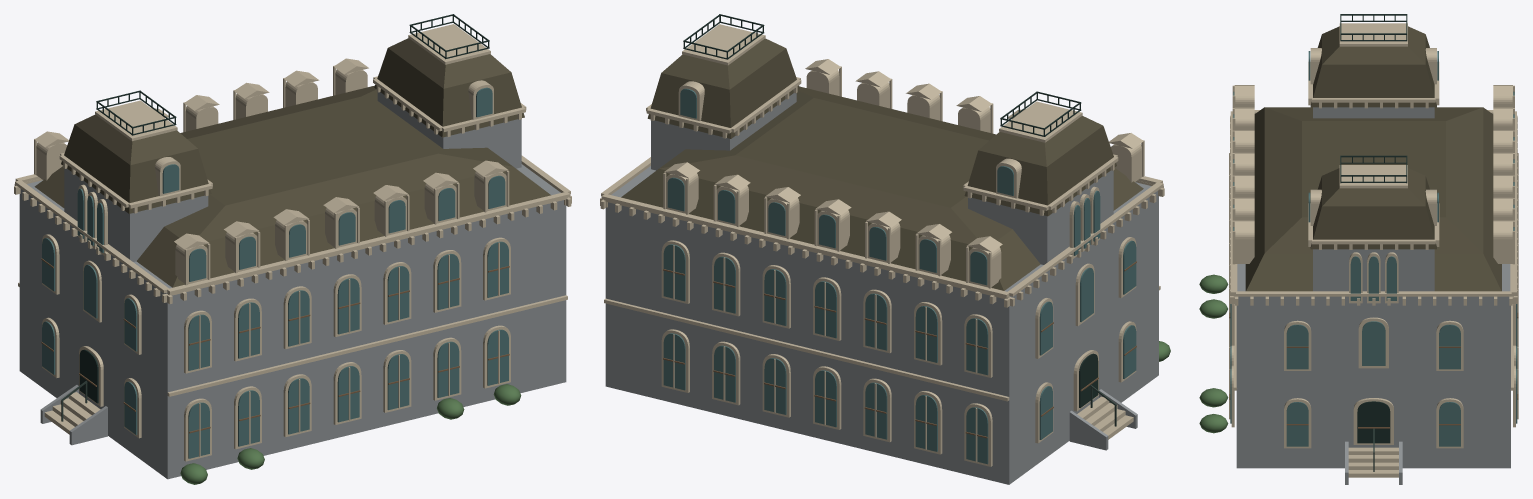
Rendered from university-hall-stairs-exterior-2026-11-04.glb.
3 views of the same model, side by side, from view 1: azimuth 30°, elevation 25°; view 2: azimuth 150°, elevation 25°; view 3: azimuth 270°, elevation 25° (orthographic). The views are drawn at different scales.
Visible parts, largest first — view 1: university-part-0, university-part-1; view 2: university-part-0; view 3: university-part-0, university-part-1.
Part boxes in pixels (box(x1,y1,x2,y2)): university-part-0: box(14, 14, 571, 479); university-part-1: box(180, 384, 521, 484); university-part-0: box(600, 14, 1164, 484); university-part-0: box(1229, 14, 1518, 484); university-part-1: box(1199, 274, 1228, 433).
Bounding box in the file's own units: 33.27 × 20.52 × 20.95.
